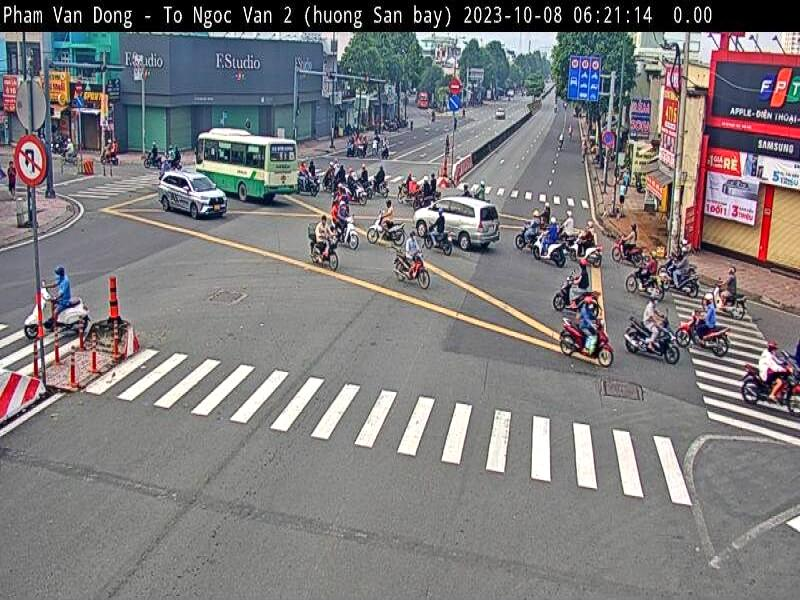bus: (193, 127, 303, 209)
car: (413, 196, 503, 255), (154, 168, 232, 222)
motorcycle: (25, 280, 88, 343), (624, 306, 684, 366), (738, 360, 800, 417), (556, 317, 618, 372), (678, 311, 734, 358), (391, 248, 436, 292), (308, 229, 344, 274), (364, 212, 409, 246), (532, 230, 570, 270), (330, 210, 362, 253)
